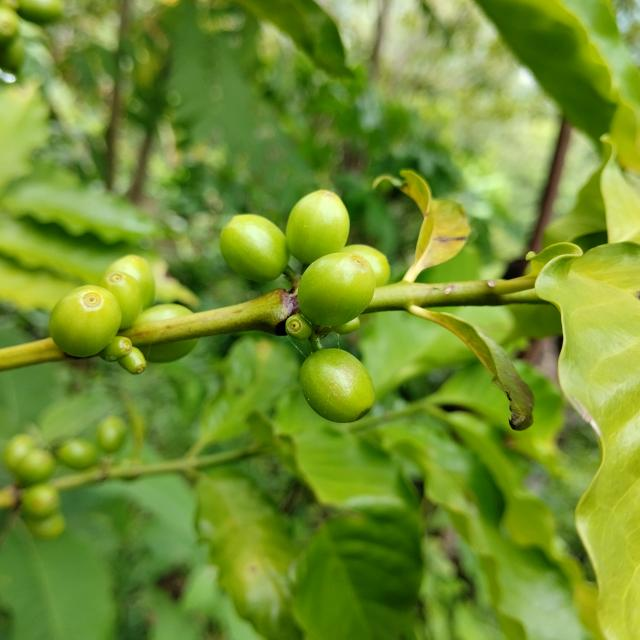green: (298, 252, 376, 326), (300, 349, 374, 423), (48, 285, 121, 357), (220, 214, 290, 282), (286, 190, 350, 264), (102, 254, 155, 310), (98, 271, 143, 329), (340, 244, 391, 287), (138, 339, 198, 363), (134, 304, 191, 324)
